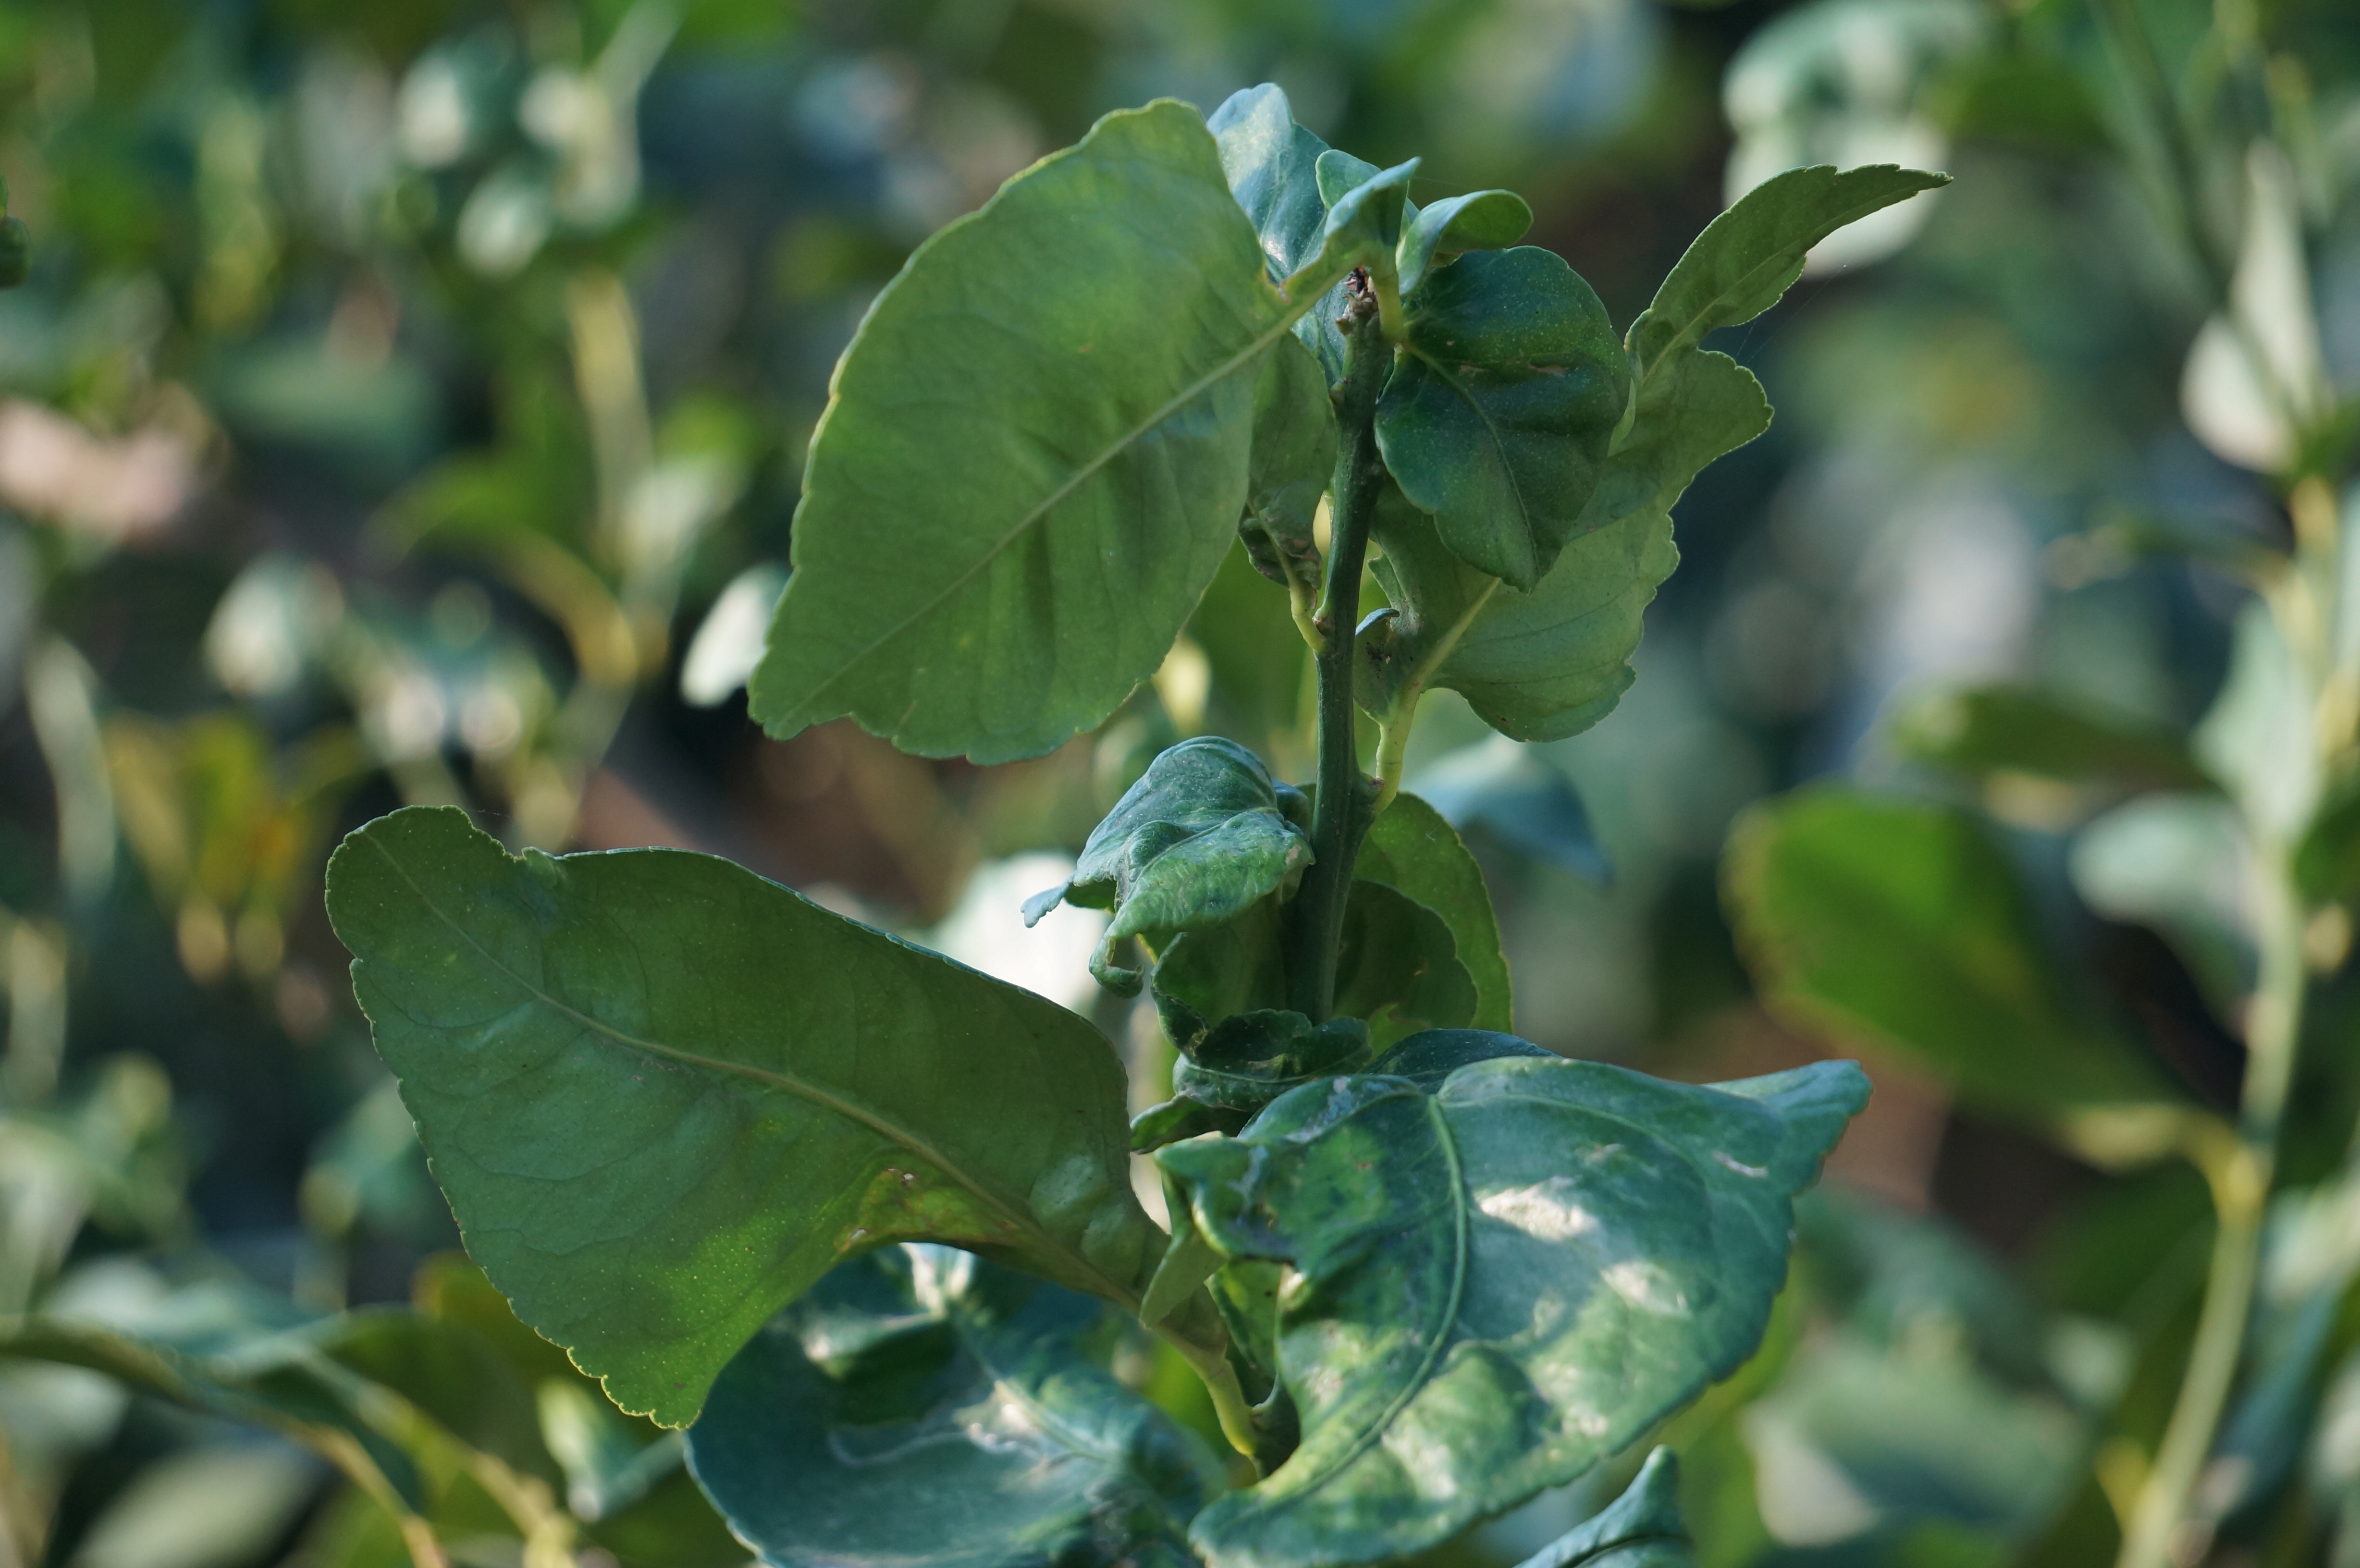curly: (1036, 814, 1321, 1006)
